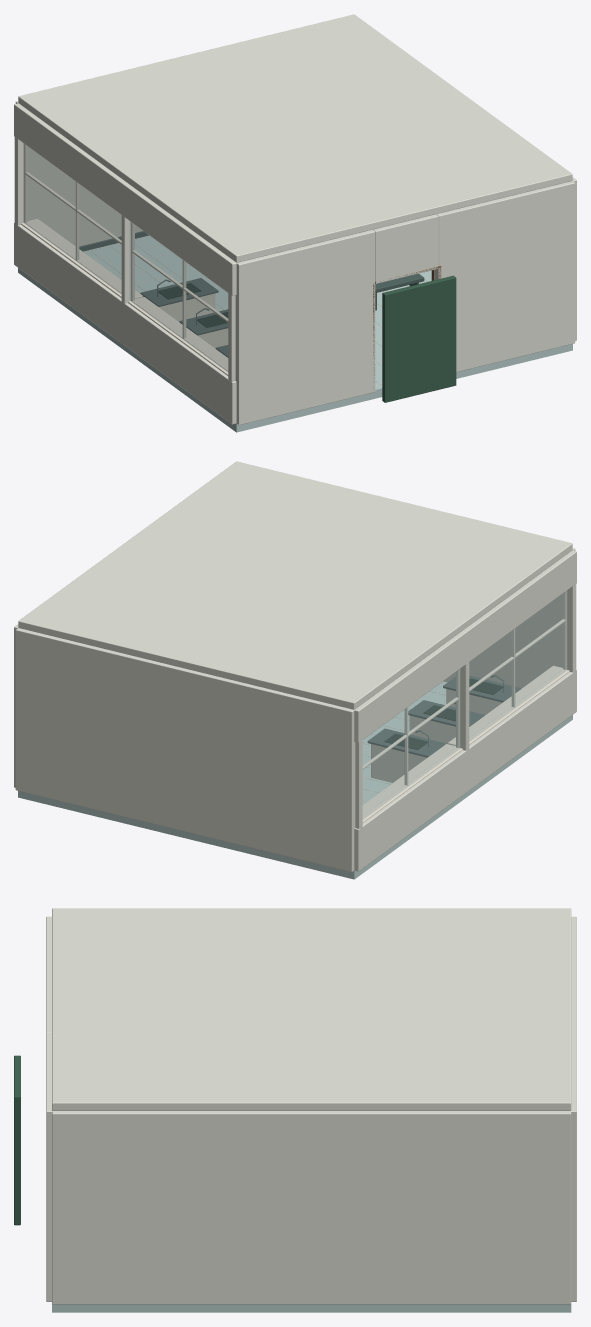
The picture shows the model from 3 angles, top to bottom: view 1: azimuth 30°, elevation 25°; view 2: azimuth 150°, elevation 25°; view 3: azimuth 270°, elevation 25°; orthographic projection. The views are drawn at different scales.
Parts seen in each view (by area): view 1: 1-3__architecture_and_equipment; view 2: 1-3__architecture_and_equipment; view 3: 1-3__architecture_and_equipment.
Part boxes in pixels (box(x1,y1,x2,y2)): 1-3__architecture_and_equipment: box(14, 14, 576, 432); 1-3__architecture_and_equipment: box(14, 461, 576, 879); 1-3__architecture_and_equipment: box(14, 908, 576, 1312).
Size of the model in its own units: 8.2 by 4.01 by 9.76.
Materials: 13 (1 with a texture image).
